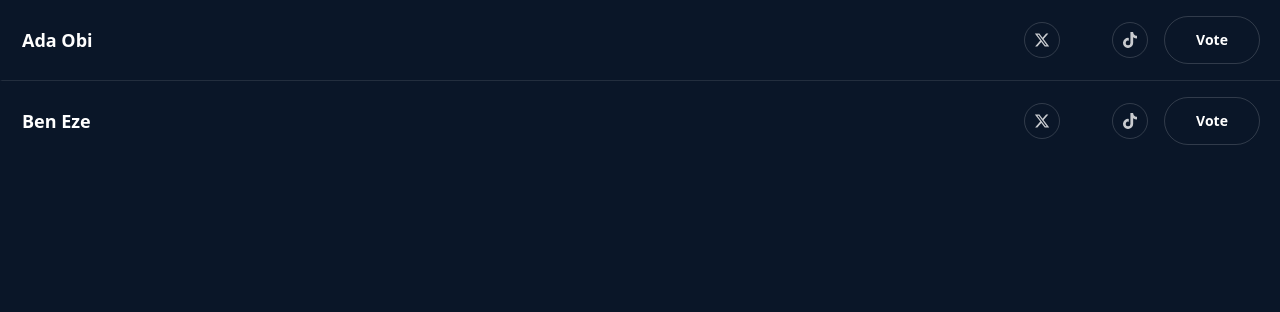
Test: BallotRow › shows a refusal as the server words it
Click the button with aria-label "Vote for Ada Obi" at (1212, 40), box [1164,16,1260,64]
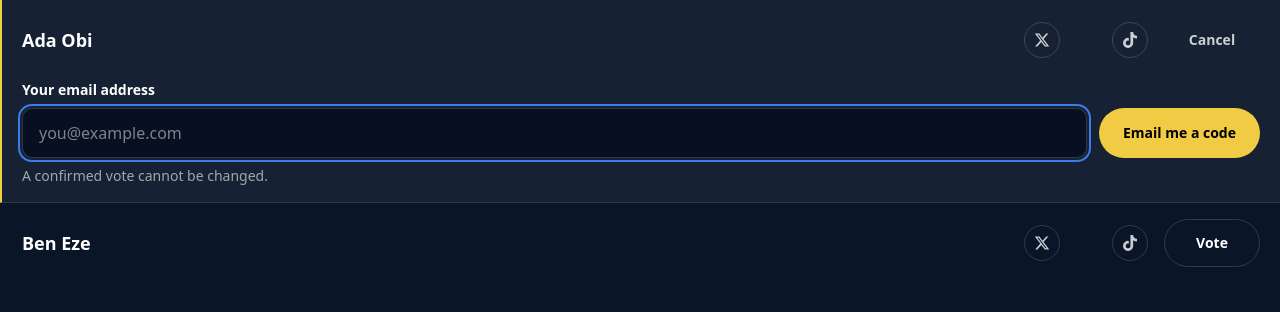
Type "ada@example.com" into the field labelled "Your email address" at (554, 133), box [22,108,1087,158]
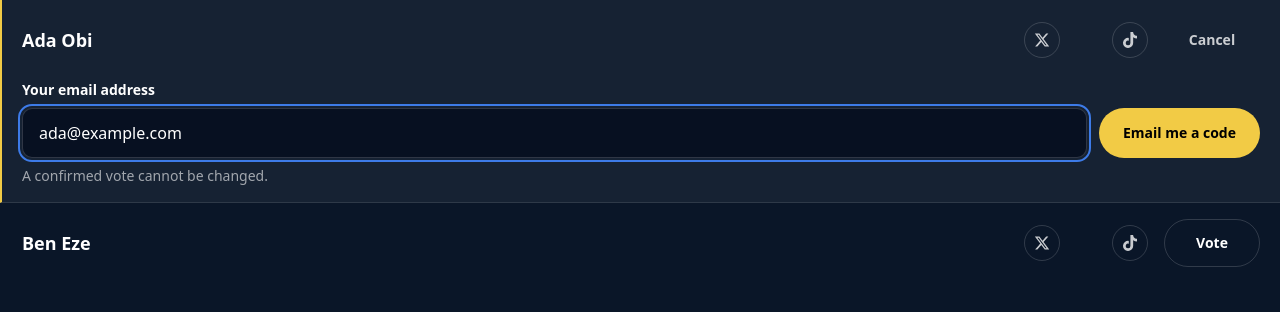
Click the button "Email me a code" at (1180, 133), box [1099,108,1260,158]
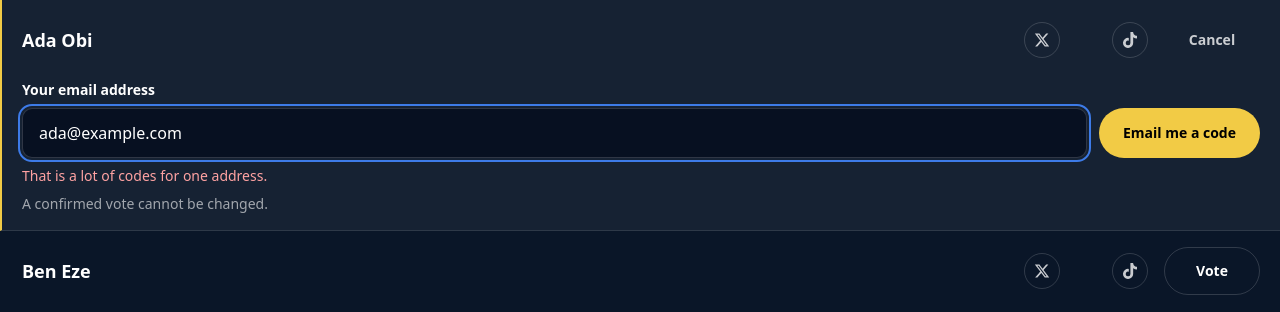
Expected: the message reads "That is a lot of codes for one address.", [22,166,267,185]
